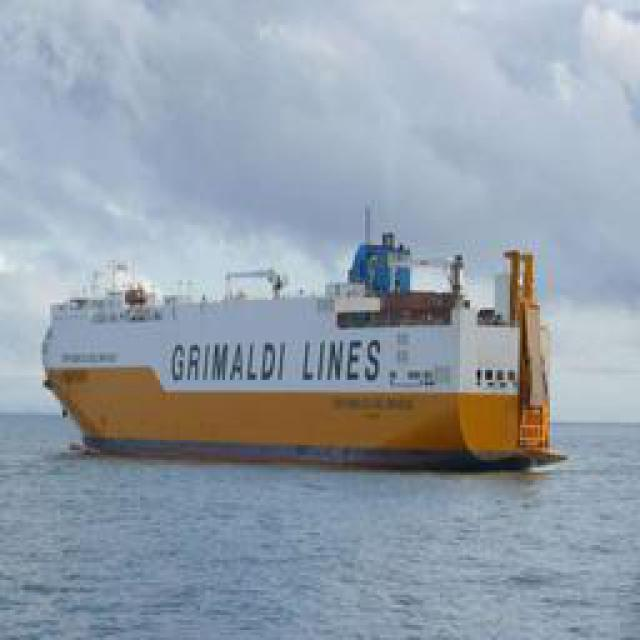Ship: (36, 206, 561, 466)
